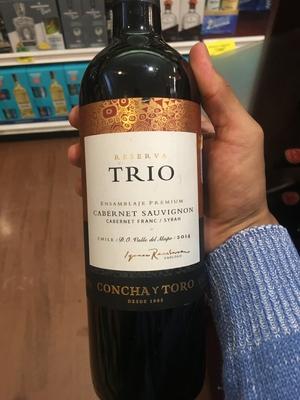trio cabernet sauvignon: (76, 7, 226, 400)
